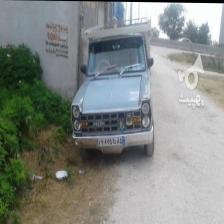plate: (98, 135, 125, 145)
